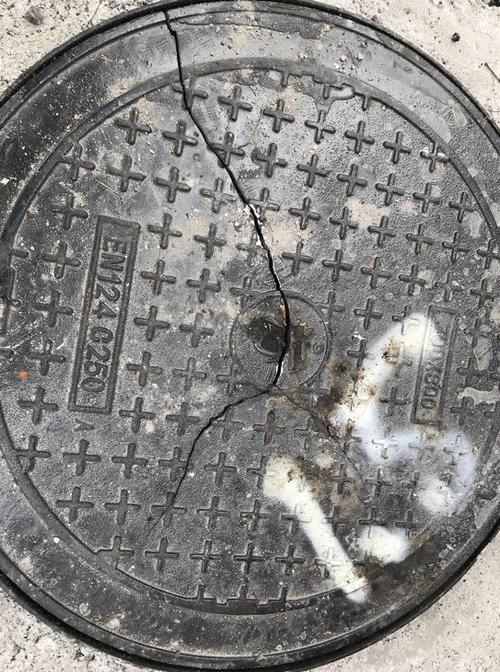broke: (6, 5, 491, 669)
